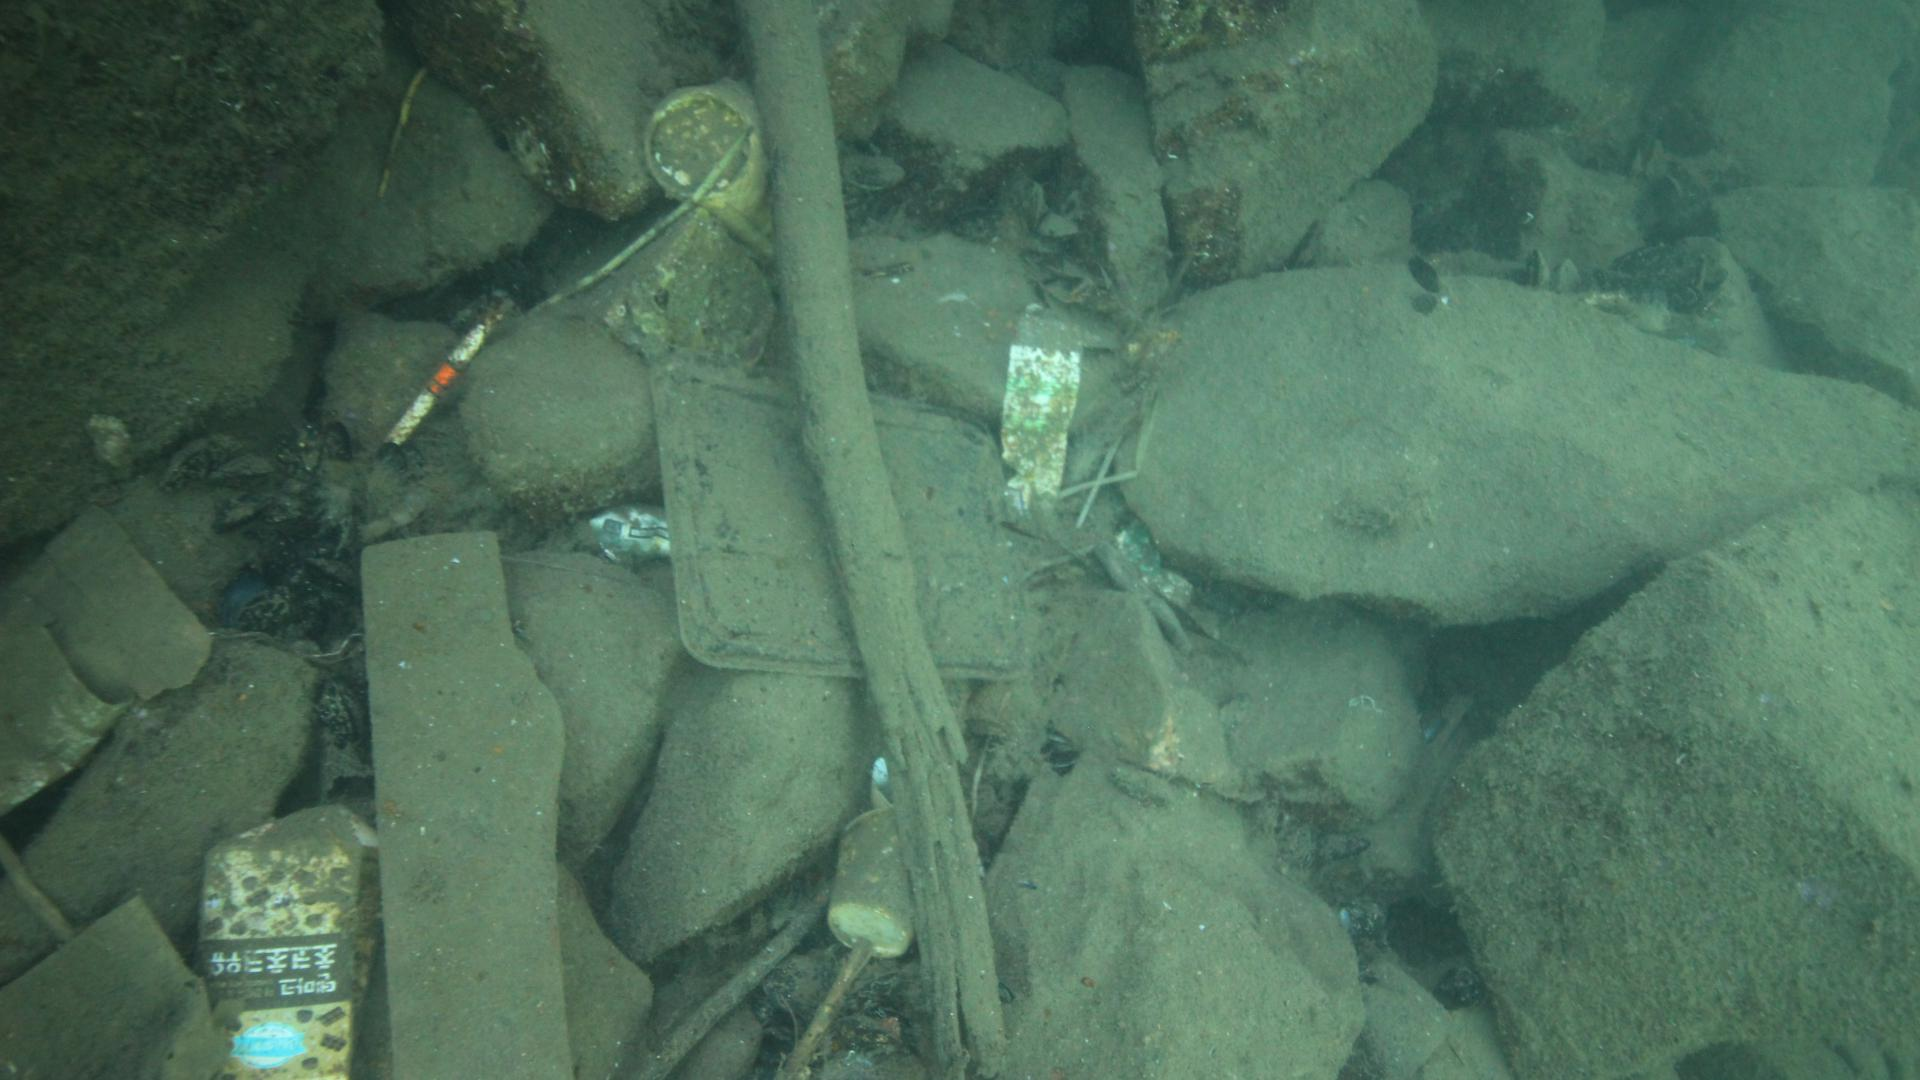wood: (736, 0, 1014, 1080)
